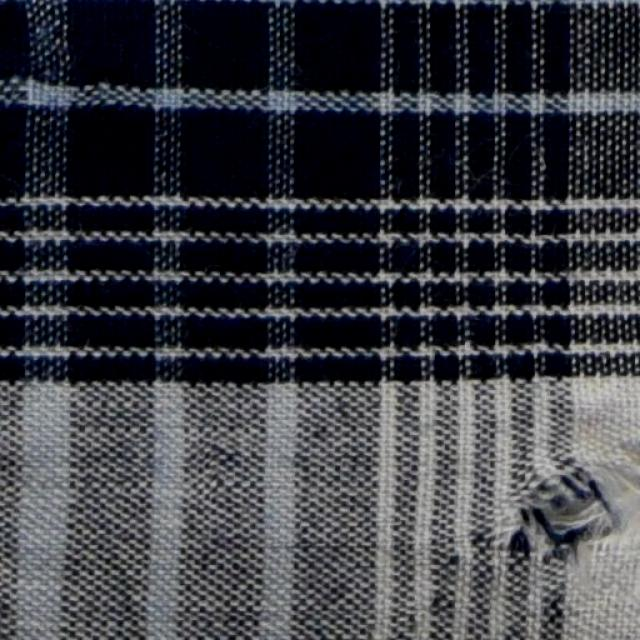Snag: (504, 472, 630, 575)
